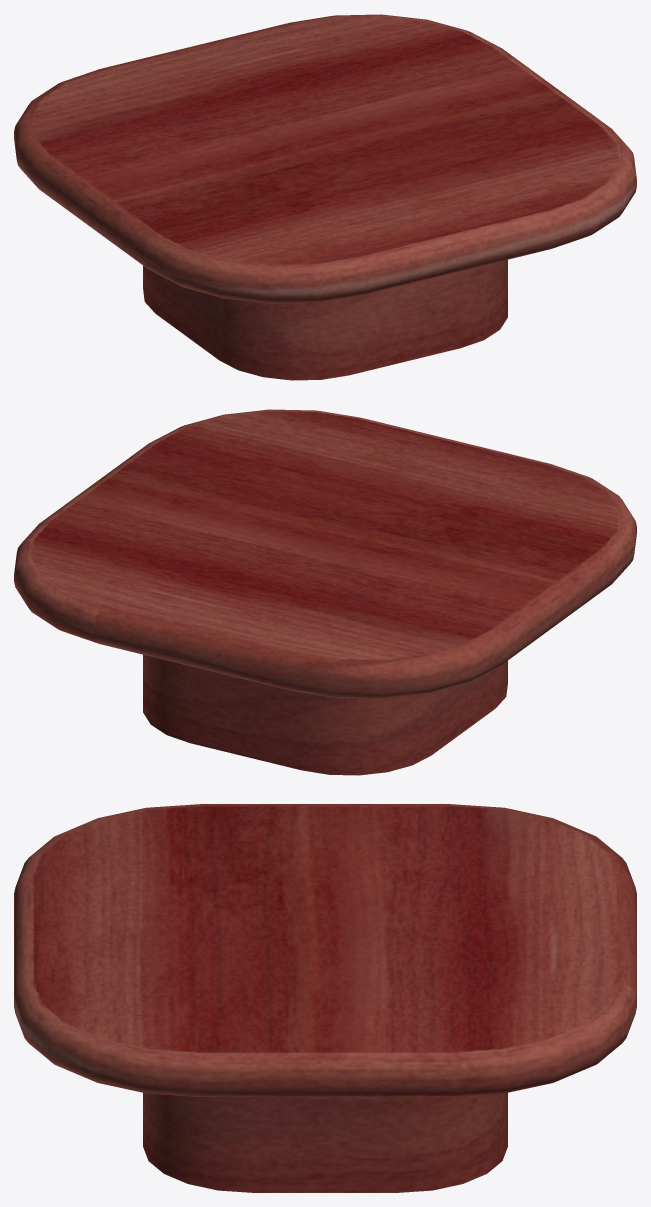
The model's file is CoffeeTable_Sq_Cherry1.glb.
3 renders of one model, top to bottom at view 1: azimuth 30°, elevation 25°; view 2: azimuth 150°, elevation 25°; view 3: azimuth 270°, elevation 25°, orthographic. The views are drawn at different scales.
Visible parts, largest first — view 1: Cube.007, Cube; view 2: Cube.007, Cube; view 3: Cube.007, Cube.
Part boxes in pixels (bbox=[...]): Cube.007: bbox=[14, 14, 636, 303]; Cube: bbox=[143, 259, 507, 380]; Cube.007: bbox=[14, 409, 636, 698]; Cube: bbox=[143, 654, 507, 775]; Cube.007: bbox=[14, 804, 636, 1096]; Cube: bbox=[143, 1093, 507, 1192].
Size of the model in its own units: 1.53 by 0.5061 by 1.53.
Materials: 1 (1 with a texture image).
